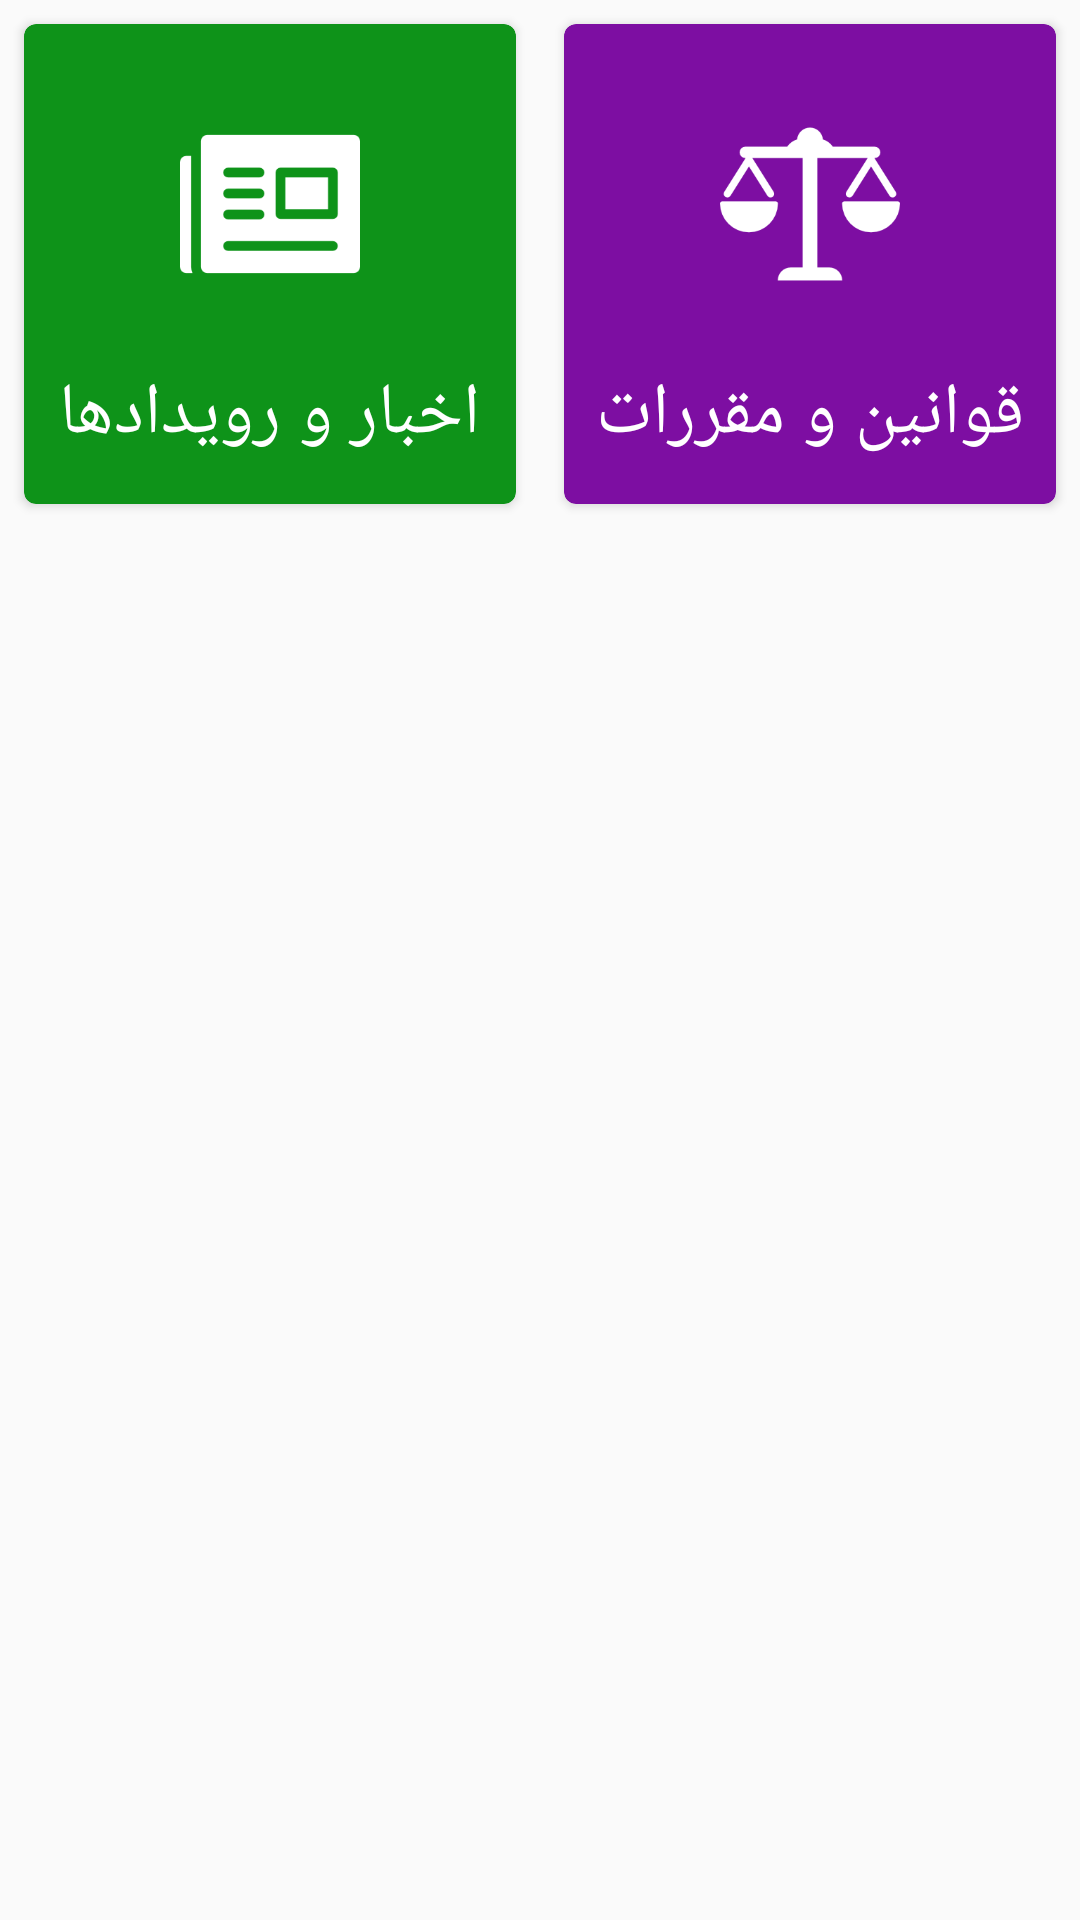

Where icons sit on this 1080x1920 app screen, as (x1, y1, x2, y2):
news: (180, 134, 360, 274)
rule: (720, 127, 900, 281)
